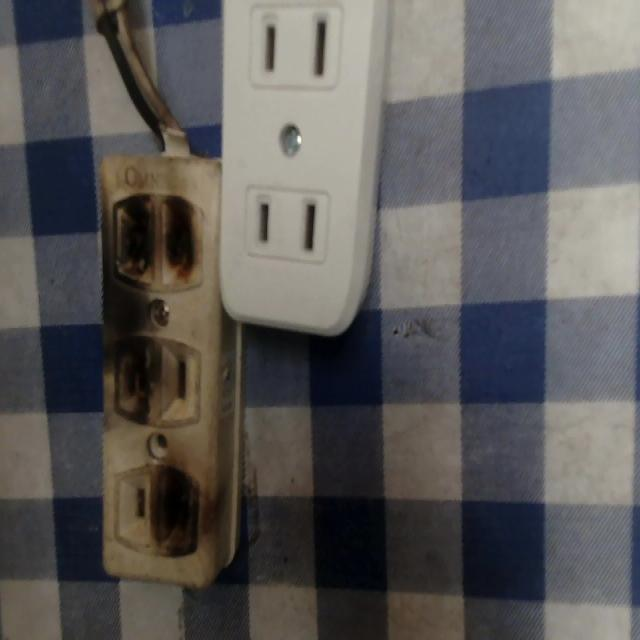-: (103, 188, 210, 301), (152, 464, 209, 561), (108, 332, 161, 427)
